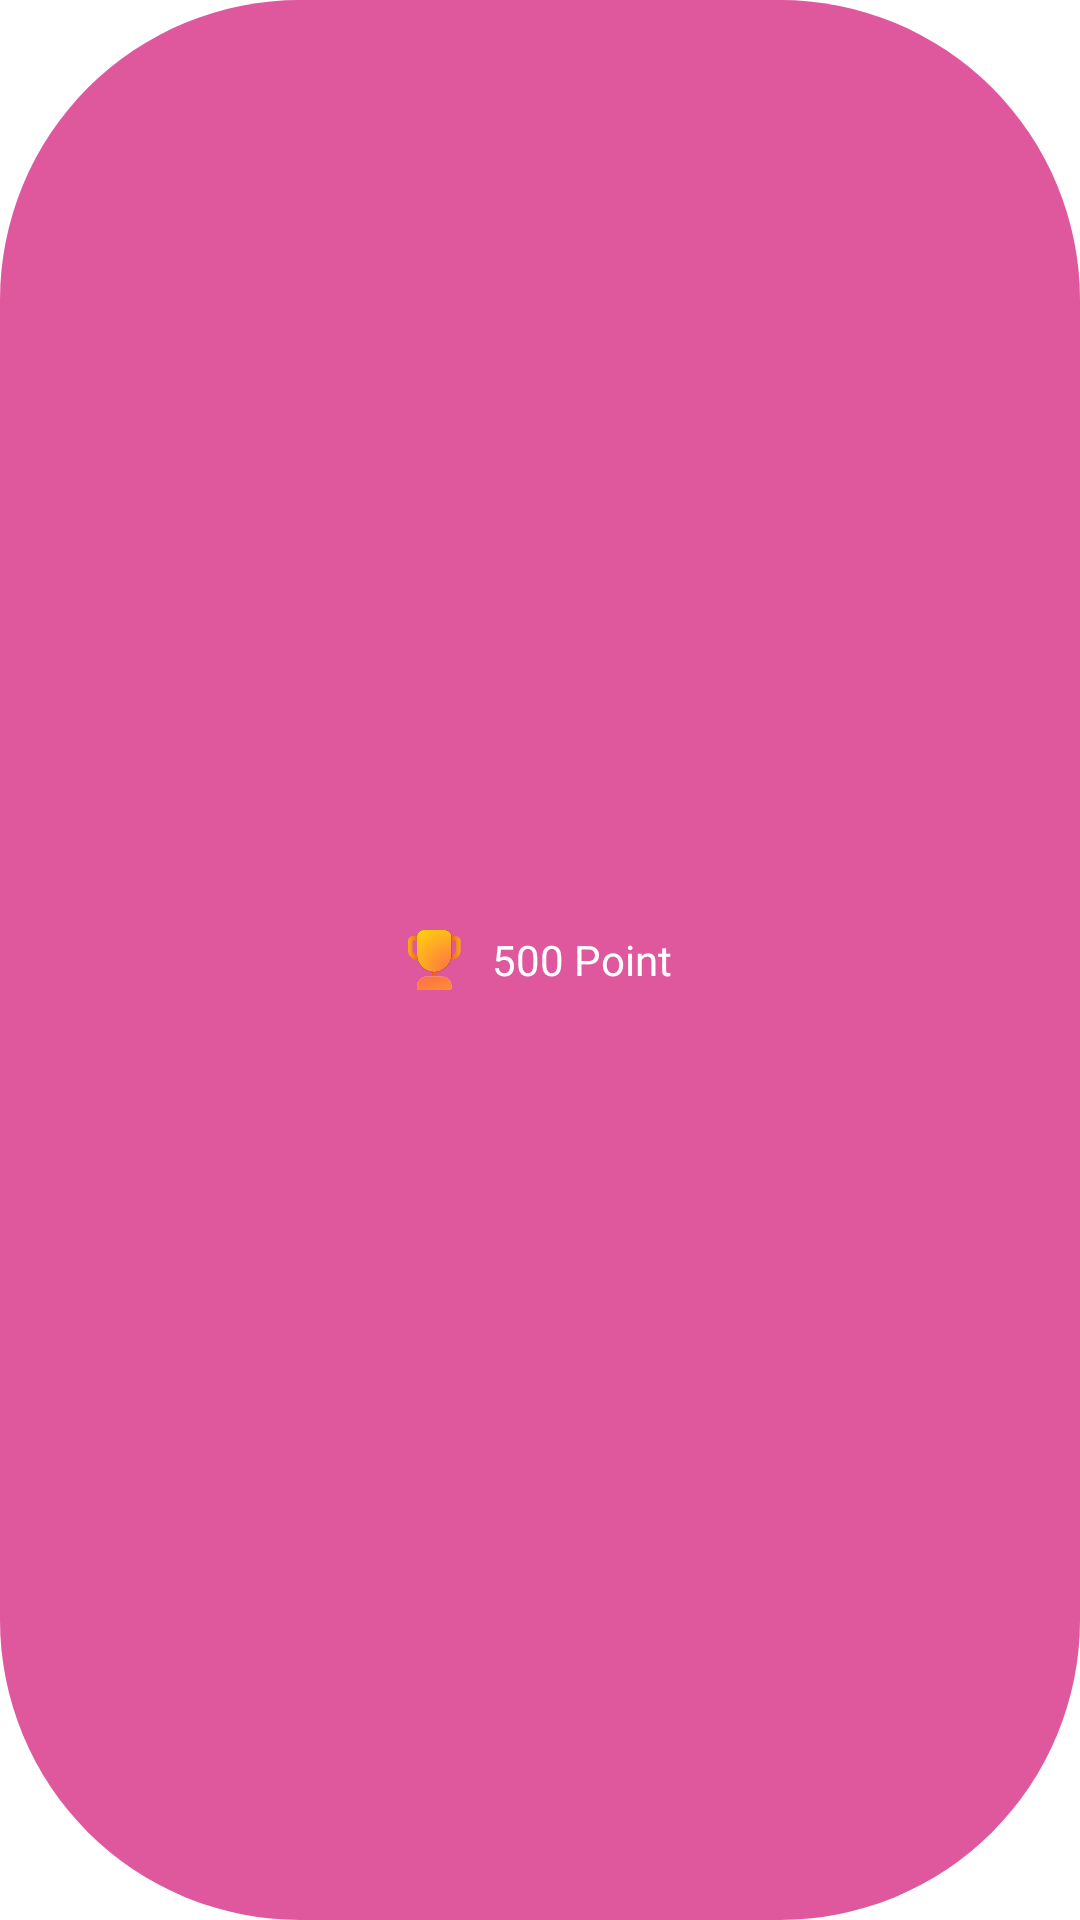

Where icons sit on this 1080×1920 app screen, as box=[x1, y1, x2, y2]:
trophy: box=[408, 930, 461, 990]
